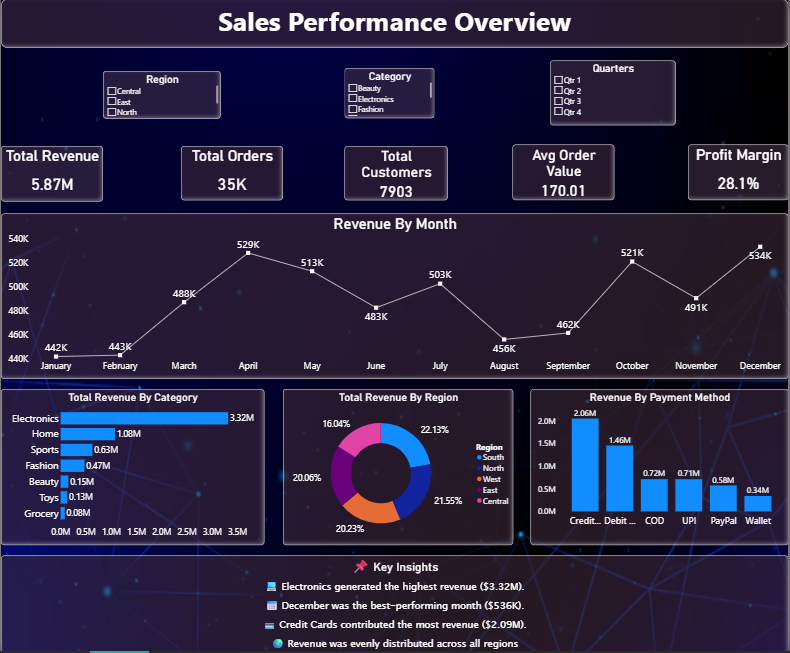

The page's visual inventory and layout, read from the dashboard file:
{"tool":"powerbi","page":{"name":"Page 1","canvas":[3500,2900],"ordinal":0},"visuals":[{"type":"card","title":"Total Revenue","fields":{"Values":["ecommerce.Total revenue"]},"box":[0,653.3,453.3,246.7],"z":0},{"type":"card","title":"Total Orders","fields":{"Values":["ecommerce.total orders"]},"box":[800,652.9,452.9,241.2],"z":1000},{"type":"card","title":"Total Customers","fields":{"Values":["ecommerce.total customers"]},"box":[1523.5,652.9,458.8,241.2],"z":2000},{"type":"card","title":"Avg Order Value","fields":{"Values":["ecommerce.Average Order Value"]},"box":[2276.5,647.1,452.9,247.1],"z":3000},{"type":"card","title":"Profit Margin","fields":{"Values":["ecommerce.Profit Margin %"]},"box":[3052.9,647.1,447.1,247.1],"z":4000},{"type":"lineChart","title":" Revenue By Month","fields":{"Category":["ecommerce.order_date.Variation.Date Hierarchy.Month"],"Y":["ecommerce.Total revenue"]},"box":[0,952.9,3500,735.3],"z":5000},{"type":"donutChart","title":"Total Revenue By Region","fields":{"Category":["ecommerce.region"],"Y":["ecommerce.Total revenue"]},"box":[1252.9,1735.3,1023.5,694.1],"z":6000},{"type":"clusteredBarChart","title":"Total Revenue By Category","fields":{"Category":["ecommerce.category"],"Y":["ecommerce.Total revenue"]},"box":[0,1735.3,1170.6,694.1],"z":7000},{"type":"clusteredColumnChart","title":" Revenue By Payment Method","fields":{"Category":["ecommerce.payment_method"],"Y":["ecommerce.Total revenue"]},"box":[2352.9,1735.3,1147.1,694.1],"z":8000},{"type":"textbox","title":"📌 Key Insights","box":[0,2470.6,3500,782.4],"z":9000},{"type":"textbox","box":[0,0,3500,217.6],"z":10000},{"type":"slicer","title":"Region","fields":{"Values":["ecommerce.region"]},"box":[452.9,317.6,523.5,211.8],"z":11000},{"type":"slicer","title":"Category","fields":{"Values":["ecommerce.category"]},"box":[1523.5,305.9,400,223.5],"z":12000},{"type":"slicer","title":"Year","fields":{"Values":["ecommerce.order_date.Variation.Date Hierarchy.Year"]},"box":[2441.2,270.6,558.8,288.2],"z":13000}]}

Visuals, with their boxes in screenshot pixels (x1, y1, x2, y2), scaled from the page's 3500x2900 canvas onto the 790x653 screenshot:
"Total Revenue" card: rect(0, 147, 102, 203)
"Total Orders" card: rect(181, 147, 283, 201)
"Total Customers" card: rect(344, 147, 447, 201)
"Avg Order Value" card: rect(514, 146, 616, 201)
"Profit Margin" card: rect(689, 146, 789, 201)
" Revenue By Month" lineChart: rect(0, 215, 789, 380)
"Total Revenue By Region" donutChart: rect(283, 391, 514, 547)
"Total Revenue By Category" clusteredBarChart: rect(0, 391, 264, 547)
" Revenue By Payment Method" clusteredColumnChart: rect(531, 391, 789, 547)
"📌 Key Insights" textbox: rect(0, 556, 789, 652)
textbox: rect(0, 0, 789, 49)
"Region" slicer: rect(102, 72, 220, 119)
"Category" slicer: rect(344, 69, 434, 119)
"Year" slicer: rect(551, 61, 677, 126)
